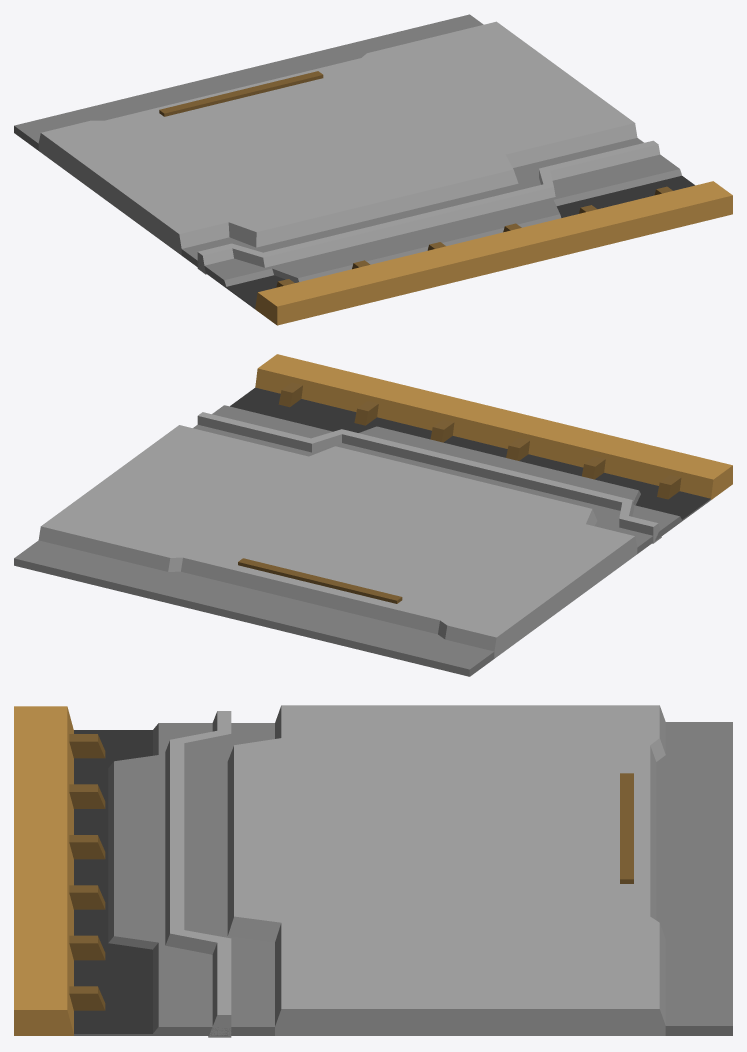
File: floortile_side.043_lev3.glb
3 renders of one model, top to bottom at view 1: azimuth 30°, elevation 25°; view 2: azimuth 150°, elevation 25°; view 3: azimuth 270°, elevation 25°, orthographic. The views are drawn at different scales.
Parts seen in each view (by area): view 1: floortile_side.043_lev3; view 2: floortile_side.043_lev3; view 3: floortile_side.043_lev3.
Boxes of the visible parts, <box> form: floortile_side.043_lev3: <box>14,14,732,325</box>; floortile_side.043_lev3: <box>14,354,732,676</box>; floortile_side.043_lev3: <box>14,705,732,1037</box>.
Bounding box in the file's own units: 2 × 0.1369 × 2.
